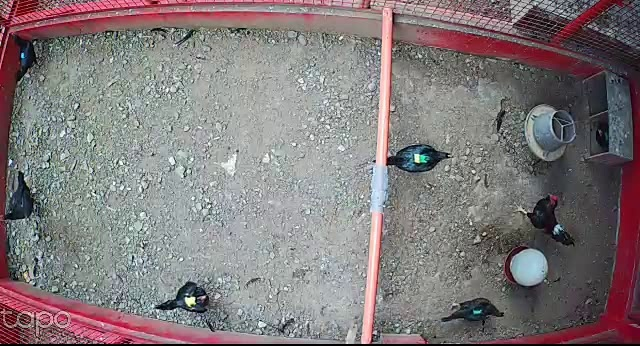Chicken: (437, 291, 507, 333), (0, 170, 42, 230), (154, 277, 216, 315), (382, 144, 456, 175), (8, 27, 45, 84)
Drinker: (504, 246, 546, 288)
Feeder: (524, 103, 578, 162)
Rooster: (513, 185, 577, 247)
Saddle_Color_Blue: (20, 50, 25, 59)
Saddle_Color_Yellow: (185, 293, 197, 306)
Saddle_Color_YellowGreen: (412, 151, 430, 163)
